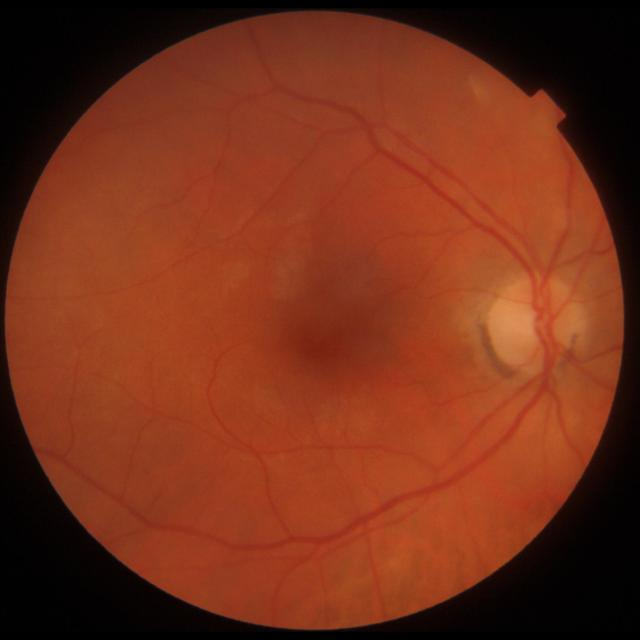OC: (524, 310, 548, 338)
OD: (491, 276, 583, 373)
